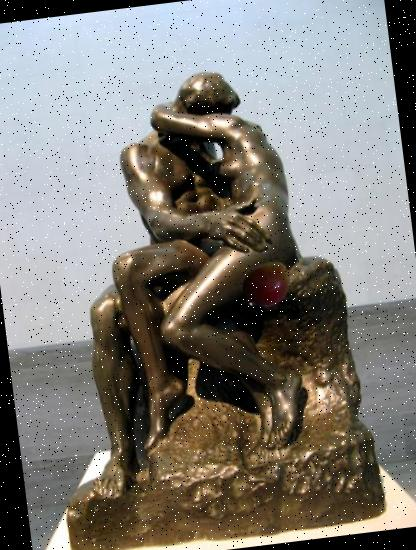Mango: (236, 255, 296, 314)
